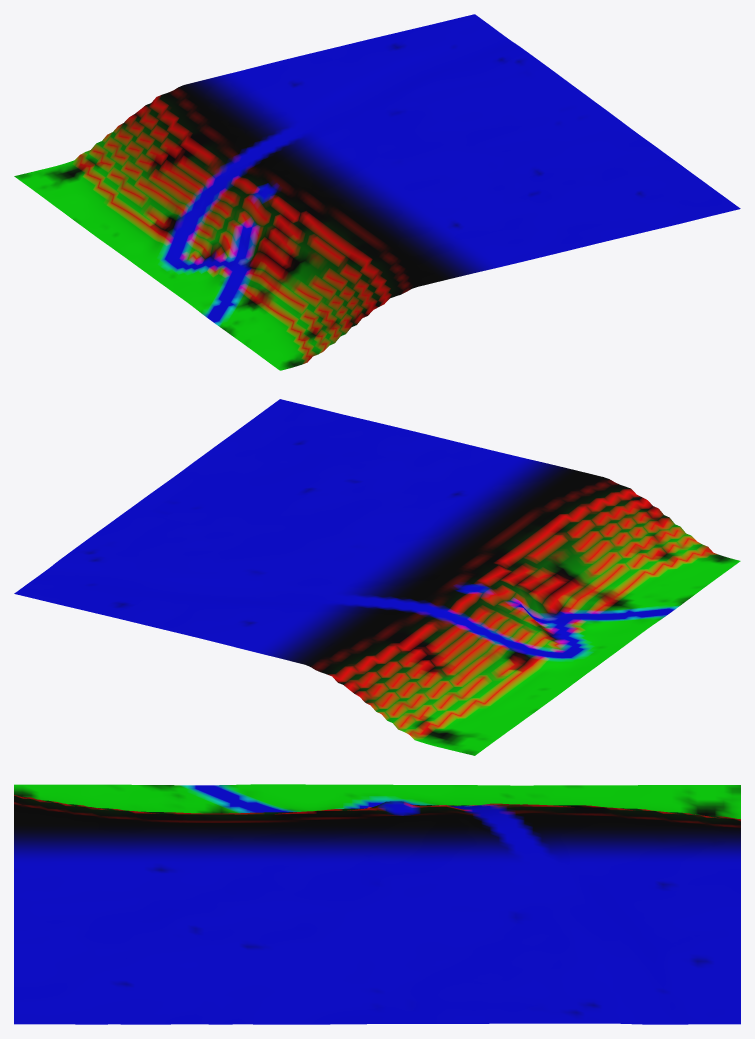
The model's file is SM_RiyadhNights_Terrain_2_1.fbx.
3 views of the same model, one above another, from view 1: azimuth 30°, elevation 25°; view 2: azimuth 150°, elevation 25°; view 3: azimuth 270°, elevation 25° (orthographic). The views are drawn at different scales.
Parts seen in each view (by area): view 1: SM_RiyadhNights_Terrain_2_1; view 2: SM_RiyadhNights_Terrain_2_1; view 3: SM_RiyadhNights_Terrain_2_1.
Part boxes in pixels (x1,y1,x2,y2): SM_RiyadhNights_Terrain_2_1: (14, 14, 740, 370); SM_RiyadhNights_Terrain_2_1: (14, 399, 740, 755); SM_RiyadhNights_Terrain_2_1: (14, 784, 740, 1024).
Bounding box in the file's own units: 50400 × 5324 × 50400.
